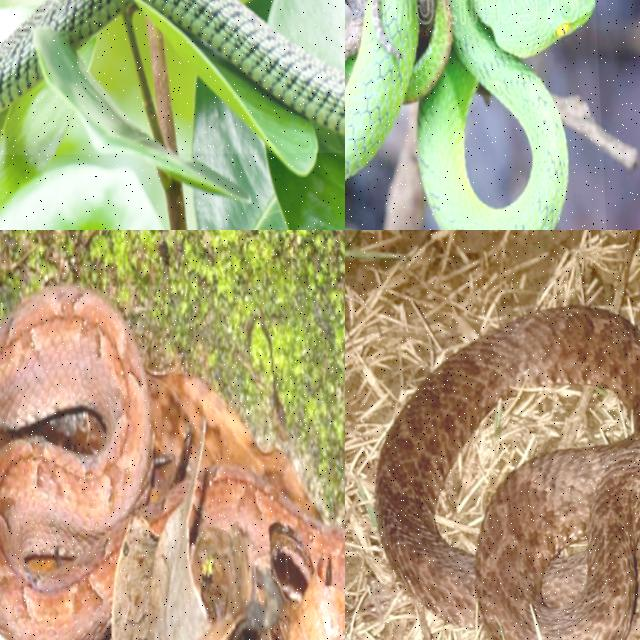Calloselasma rhodostoma: (0, 286, 152, 639)
Chrysopelea ornata: (141, 0, 344, 134)
Ovophis monticola: (375, 306, 639, 639)
Trimeresurus macrops: (345, 0, 593, 229)
